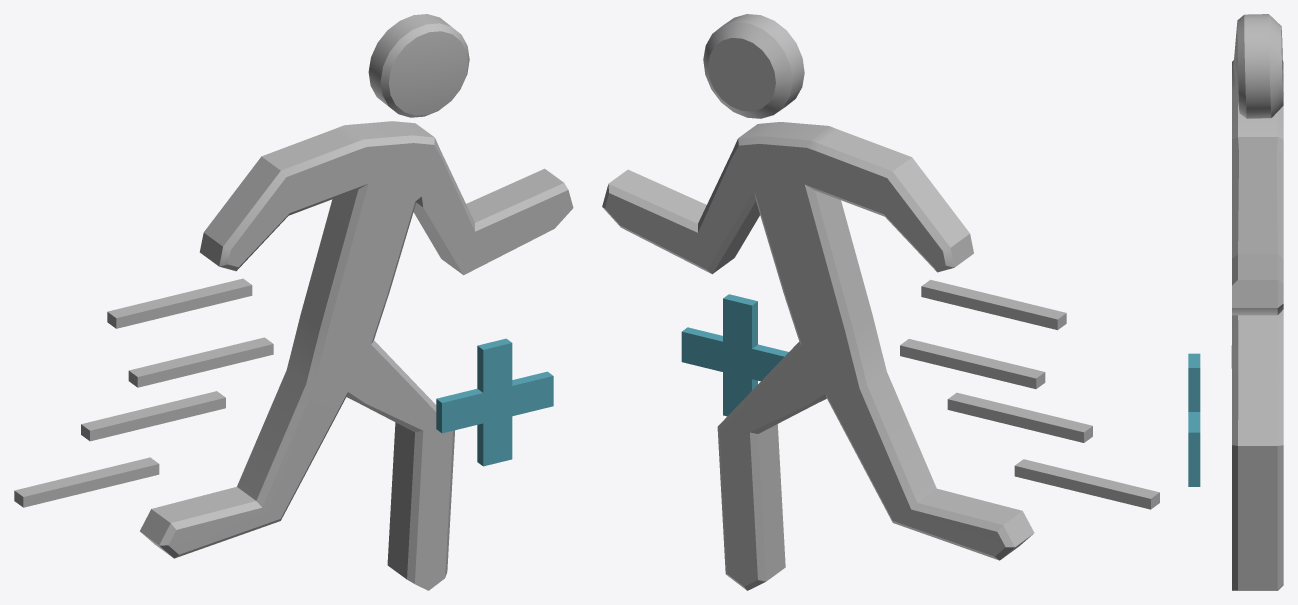
The model's file is PowerUp2_V2.fbx.
The picture shows the model from 3 angles, left to right: view 1: azimuth 30°, elevation 25°; view 2: azimuth 150°, elevation 25°; view 3: azimuth 270°, elevation 25°; orthographic projection. The views are drawn at different scales.
Visible parts, largest first — view 1: pCube12, pCylinder9, pCube19, pCube15, pCube18, pCube17, pCube16; view 2: pCube12, pCylinder9, pCube19, pCube16, pCube18, pCube17, pCube15; view 3: pCube12, pCylinder9, pCube19.
Part boxes in pixels (left/top/right/bottom): pCube12: left=140, top=121, right=573, bottom=590; pCylinder9: left=368, top=14, right=469, bottom=117; pCube19: left=436, top=338, right=553, bottom=466; pCube15: left=14, top=457, right=159, bottom=507; pCube18: left=107, top=278, right=252, bottom=328; pCube17: left=128, top=337, right=273, bottom=387; pCube16: left=81, top=391, right=225, bottom=441; pCube12: left=602, top=122, right=1034, bottom=590; pCylinder9: left=703, top=14, right=804, bottom=118; pCube19: left=681, top=294, right=788, bottom=416; pCube16: left=947, top=392, right=1092, bottom=442; pCube18: left=921, top=279, right=1066, bottom=330; pCube17: left=900, top=339, right=1045, bottom=388; pCube15: left=1014, top=459, right=1159, bottom=509; pCube12: left=1231, top=60, right=1283, bottom=590; pCylinder9: left=1233, top=14, right=1283, bottom=118; pCube19: left=1188, top=353, right=1200, bottom=486.
Size of the model in its own units: 1124 by 1113 by 168.
